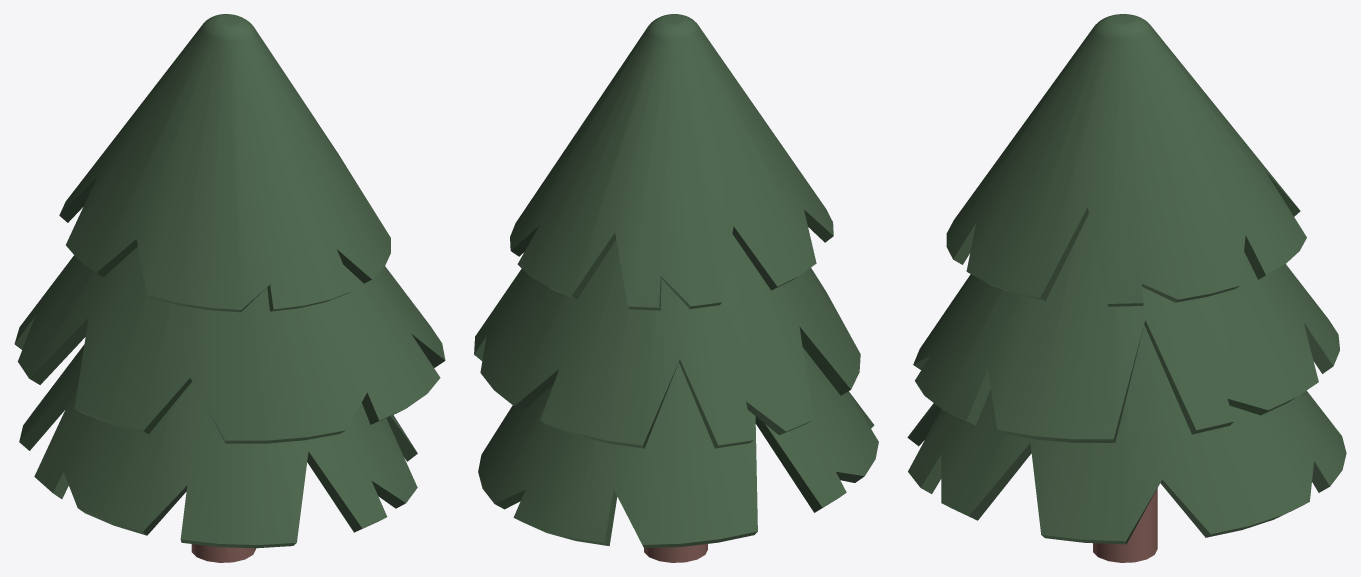
File: LowPolyTree1.fbx
The picture shows the model from 3 angles, left to right: view 1: azimuth 30°, elevation 25°; view 2: azimuth 150°, elevation 25°; view 3: azimuth 270°, elevation 25°; orthographic projection.
Visible parts, largest first — view 1: Cylinder.004, Cylinder.003, Cylinder.001, Cylinder.002; view 2: Cylinder.004, Cylinder.003, Cylinder.001, Cylinder.002; view 3: Cylinder.004, Cylinder.003, Cylinder.001, Cylinder.002.
Boxes of the visible parts, x1,y1,x2,y2 form: Cylinder.004: [59, 14, 390, 312]; Cylinder.003: [14, 246, 445, 443]; Cylinder.001: [19, 345, 417, 548]; Cylinder.002: [191, 544, 255, 562]; Cylinder.004: [510, 14, 833, 310]; Cylinder.003: [474, 234, 860, 448]; Cylinder.001: [478, 347, 878, 548]; Cylinder.002: [644, 544, 707, 562]; Cylinder.004: [946, 14, 1306, 306]; Cylinder.003: [913, 214, 1339, 442]; Cylinder.001: [907, 325, 1346, 544]; Cylinder.002: [1093, 488, 1157, 562].
Bounding box in the file's own units: 291 × 416 × 311.
